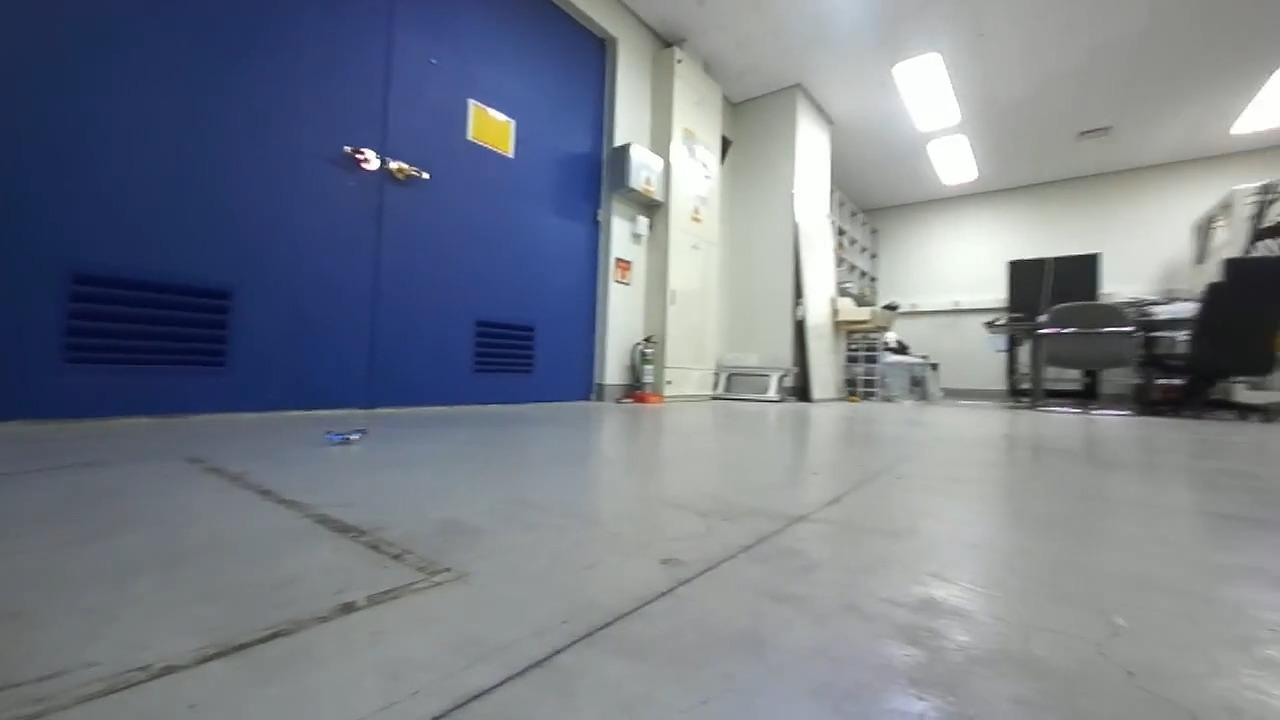crazyflie: (320, 423, 370, 450)
